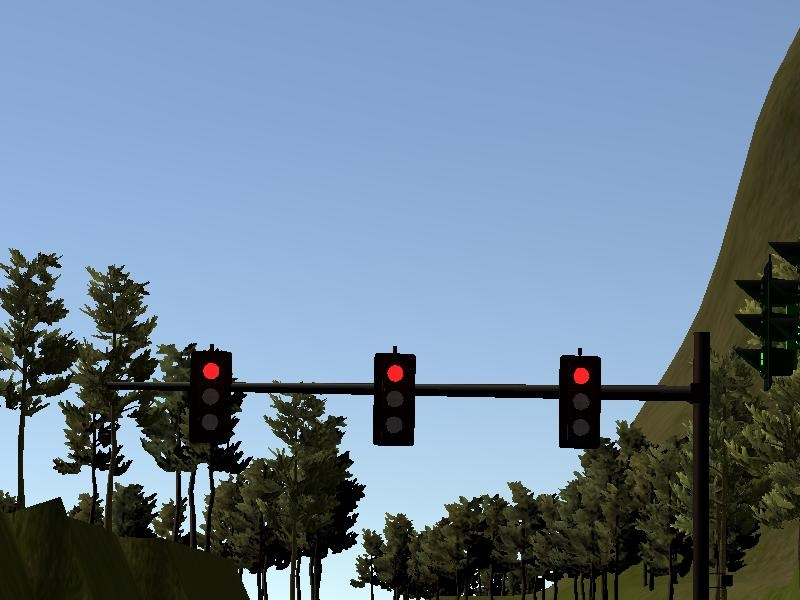red: (371, 347, 418, 449), (556, 351, 603, 450), (185, 345, 231, 446)
